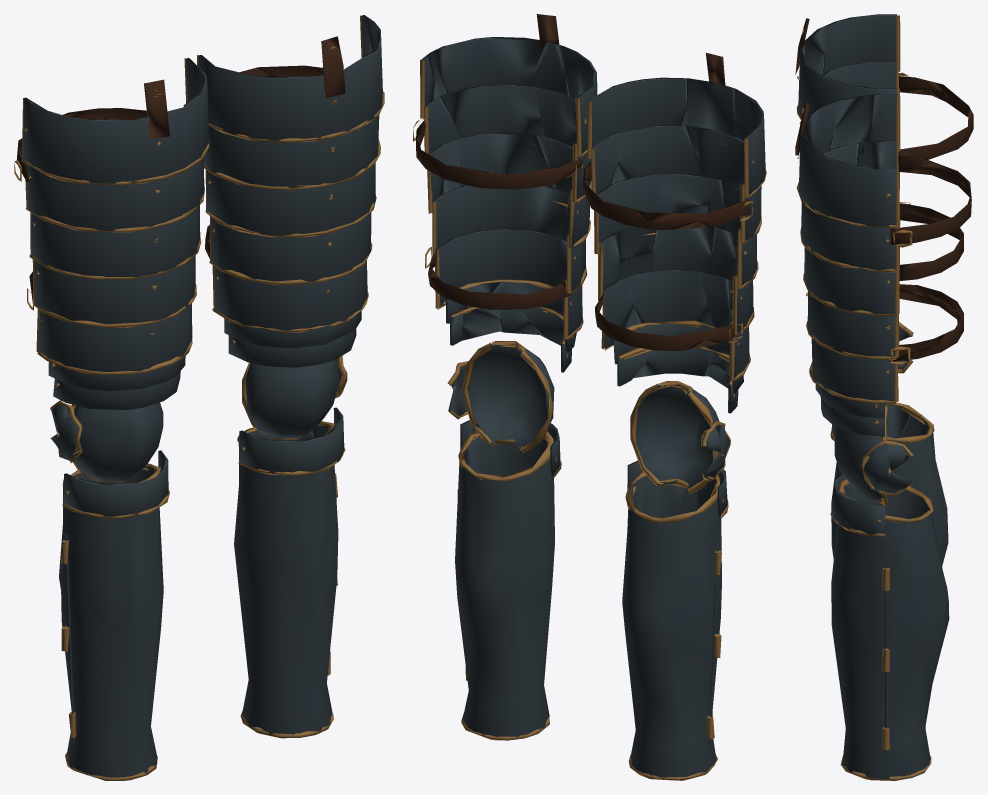
3 views of the same model, side by side, from view 1: azimuth 30°, elevation 25°; view 2: azimuth 150°, elevation 25°; view 3: azimuth 270°, elevation 25° (orthographic). The views are drawn at different scales.
Visible parts, largest first — view 1: blackened lamellar plate, oiled strap leather; view 2: blackened lamellar plate, oiled strap leather; view 3: blackened lamellar plate, oiled strap leather.
Boxes of the visible parts, x1,y1,x2,y2 form: blackened lamellar plate: [14, 15, 384, 780]; oiled strap leather: [16, 36, 345, 303]; blackened lamellar plate: [413, 37, 766, 780]; oiled strap leather: [416, 14, 750, 350]; blackened lamellar plate: [796, 14, 949, 780]; oiled strap leather: [795, 18, 973, 361].
Bounding box in the file's own units: 0.4188 × 0.8142 × 0.1985.
